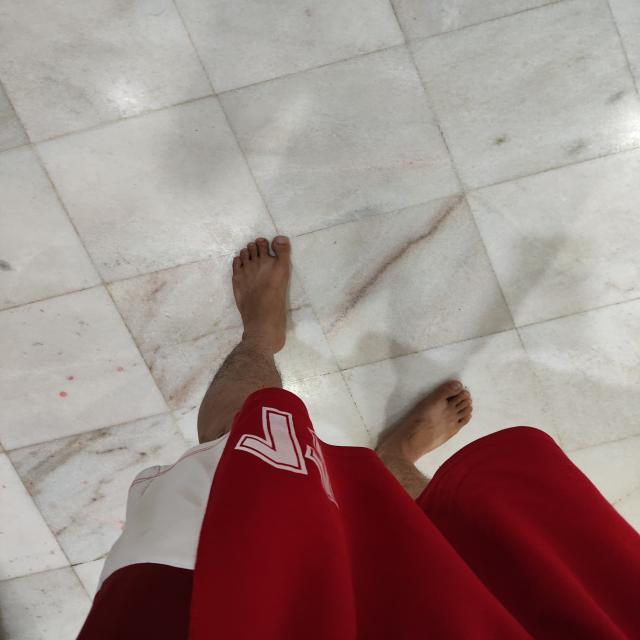No_Shoes: (172, 215, 322, 389), (370, 356, 518, 473)
